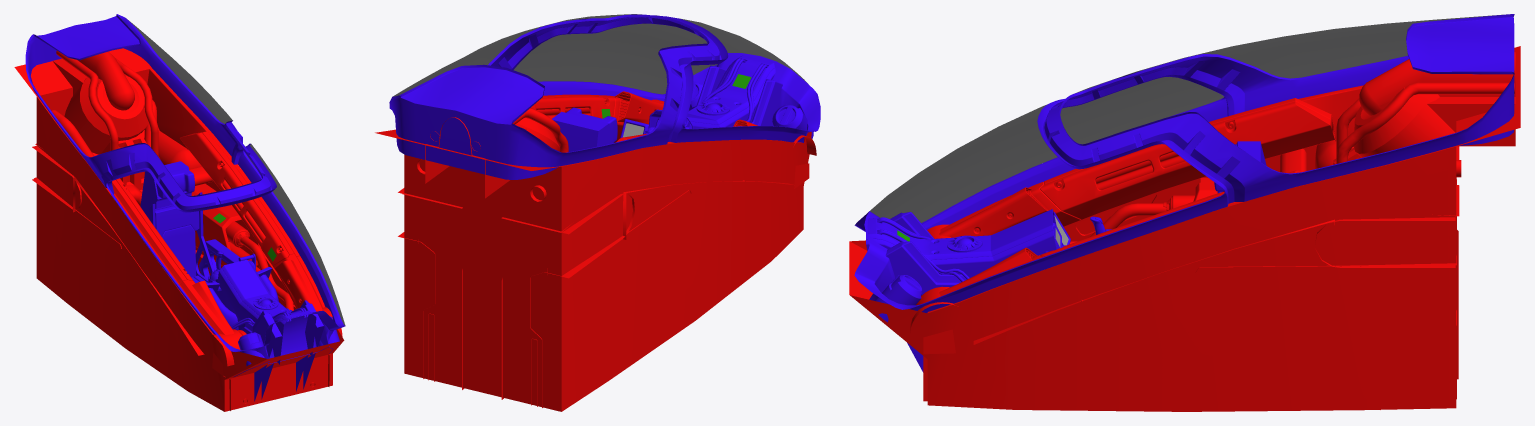
File: WaspCockpit.fbx
The picture shows the model from 3 angles, left to right: view 1: azimuth 30°, elevation 25°; view 2: azimuth 150°, elevation 25°; view 3: azimuth 270°, elevation 25°; orthographic projection. The views are drawn at different scales.
Visible parts, largest first — view 1: cockpit, center, cockpit_glass; view 2: cockpit, center, cockpit_glass; view 3: cockpit, center, cockpit_glass.
Boxes of the visible parts, x1,y1,x2,y2 form: cockpit: (14,48,344,411); center: (25,14,345,401); cockpit_glass: (126,18,345,325); cockpit: (375,91,816,411); center: (389,14,820,179); cockpit_glass: (393,14,812,96); cockpit: (849,46,1520,411); center: (854,14,1514,372); cockpit_glass: (870,14,1506,222).
Size of the model in its own units: 15.35 by 24.22 by 44.49.
